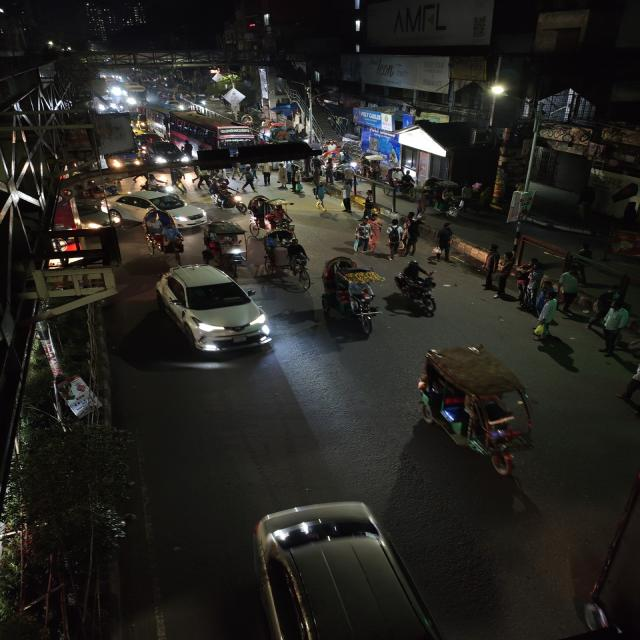bus: (159, 112, 258, 152)
car: (240, 494, 435, 640), (149, 262, 276, 360), (106, 189, 206, 228), (141, 142, 187, 166)
motorcycle: (395, 266, 442, 314)
pedestrian: (590, 302, 634, 357), (615, 360, 640, 420), (555, 270, 585, 316), (486, 253, 518, 296), (532, 296, 564, 338), (430, 222, 458, 263), (480, 244, 504, 290), (336, 174, 360, 213), (401, 217, 424, 255), (385, 220, 404, 260), (351, 221, 374, 254), (520, 256, 544, 286), (310, 179, 331, 209), (254, 162, 274, 188), (241, 165, 258, 193), (276, 164, 290, 190), (290, 176, 305, 198)
pickup_van: (106, 150, 142, 172)
rickshaw: (403, 342, 545, 482), (318, 253, 384, 330), (201, 220, 253, 272), (260, 234, 308, 289), (140, 212, 187, 258), (245, 198, 298, 231), (200, 174, 247, 210)
